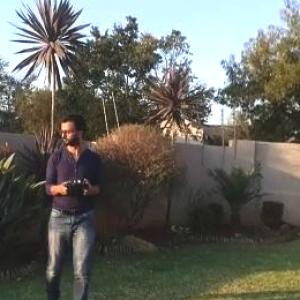follow: (36, 103, 104, 299)
